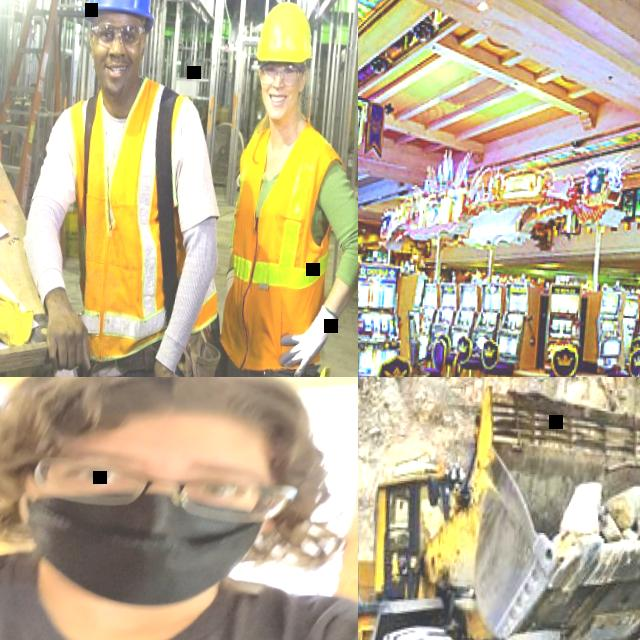Hardhat: (255, 3, 315, 67), (81, 0, 159, 28)
Mask: (9, 484, 271, 616)
NO-Hardhat: (0, 377, 315, 469)
NO-Mask: (92, 55, 138, 97), (260, 85, 294, 122)
NO-Safety Vest: (0, 535, 358, 640)
Person: (0, 377, 358, 640), (6, 0, 237, 377), (205, 0, 358, 377)
Safety Vest: (46, 71, 236, 373), (214, 117, 348, 376)
vehicle: (358, 377, 640, 640)
